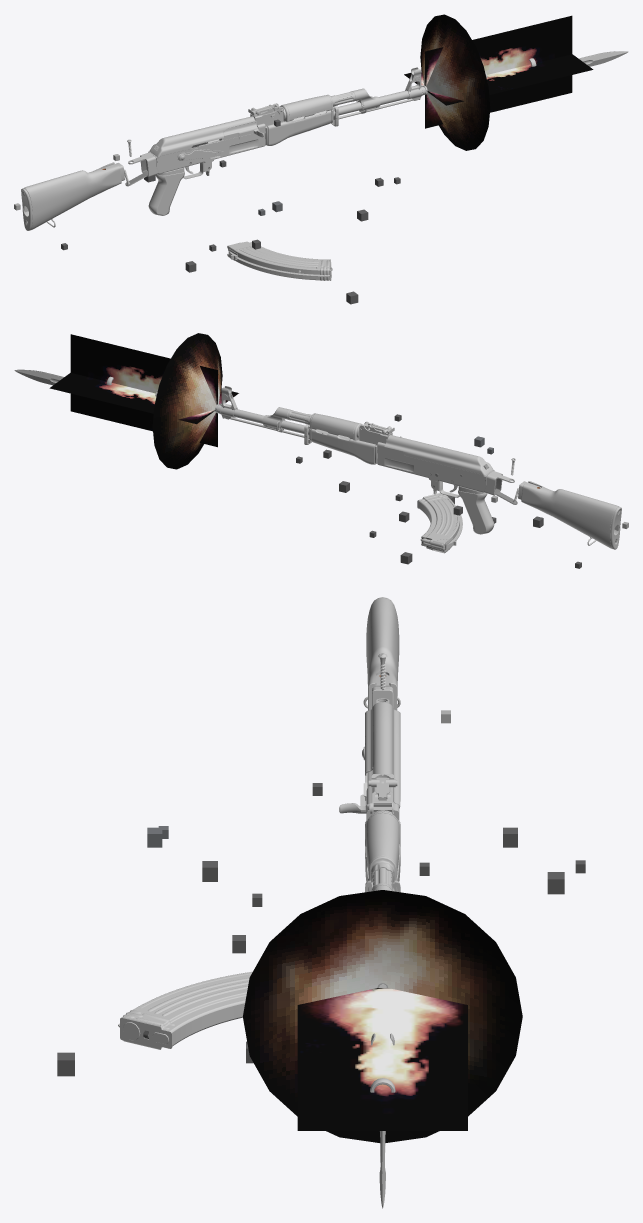
The model's file is ak-anim.fbx.
3 renders of one model, top to bottom at view 1: azimuth 30°, elevation 25°; view 2: azimuth 150°, elevation 25°; view 3: azimuth 270°, elevation 25°, orthographic. The views are drawn at different scales.
Parts seen in each view (by area): view 1: fire_muzzle, buttstock, magazine, receiver, receiver_cover, lower_handguard, pistol_grip, upper_handguard, barrel, buttstock_base, custom_bayonet, bolt_carrier (+1 smaller); view 2: fire_muzzle, buttstock, receiver, receiver_cover, magazine, lower_handguard, pistol_grip, upper_handguard, barrel, buttstock_base, custom_bayonet, rear_sight_base (+4 smaller); view 3: fire_muzzle, magazine, buttstock, receiver_cover, upper_handguard, bottom_plate, gas_piston_tube.
Boxes of the visible parts, bbox=[...] form: fire_muzzle: bbox=[404, 14, 593, 150]; buttstock: bbox=[24, 162, 124, 230]; magazine: bbox=[227, 241, 330, 280]; receiver: bbox=[148, 123, 265, 179]; receiver_cover: bbox=[149, 116, 255, 158]; lower_handguard: bbox=[265, 110, 331, 145]; pistol_grip: bbox=[148, 171, 184, 215]; upper_handguard: bbox=[284, 95, 331, 120]; barrel: bbox=[265, 90, 409, 134]; buttstock_base: bbox=[125, 152, 159, 186]; custom_bayonet: bbox=[485, 51, 628, 77]; bolt_carrier: bbox=[219, 121, 263, 140]; fire_muzzle: bbox=[49, 333, 238, 469]; buttstock: bbox=[518, 481, 618, 548]; receiver: bbox=[377, 442, 494, 497]; receiver_cover: bbox=[384, 435, 493, 476]; magazine: bbox=[418, 493, 462, 553]; lower_handguard: bbox=[311, 429, 377, 464]; pistol_grip: bbox=[458, 490, 494, 534]; upper_handguard: bbox=[311, 413, 358, 439]; barrel: bbox=[233, 409, 377, 452]; buttstock_base: bbox=[484, 471, 517, 504]; custom_bayonet: bbox=[14, 369, 157, 396]; rear_sight_base: bbox=[359, 422, 392, 445]; fire_muzzle: bbox=[243, 890, 522, 1142]; magazine: bbox=[118, 971, 252, 1046]; buttstock: bbox=[366, 597, 399, 710]; receiver_cover: bbox=[365, 702, 400, 808]; upper_handguard: bbox=[366, 813, 399, 877]; bottom_plate: bbox=[120, 1016, 172, 1049]; gas_piston_tube: bbox=[365, 810, 399, 891].
Bounding box in the file's own units: 142 × 39.84 × 52.88.
